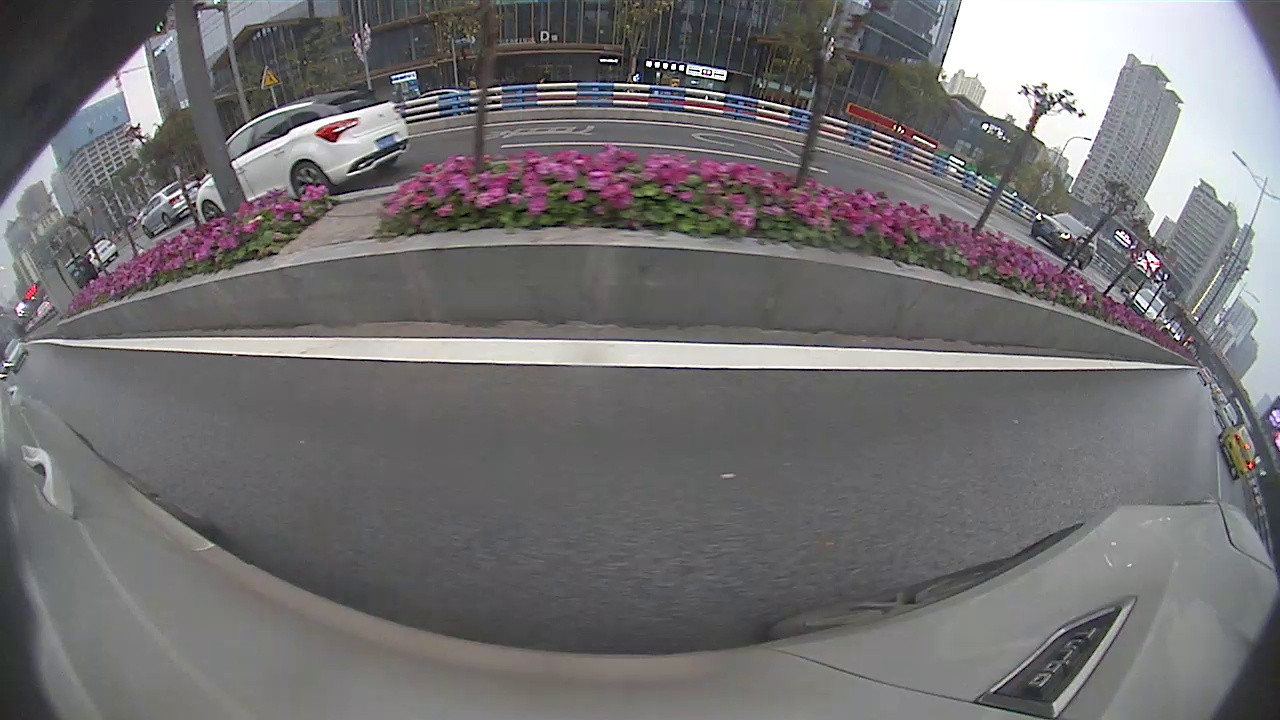car: (1217, 423, 1257, 482)
front: (199, 199, 224, 221)
rear: (292, 160, 333, 200)
